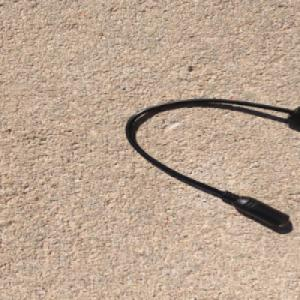Wire: (124, 95, 300, 227)
